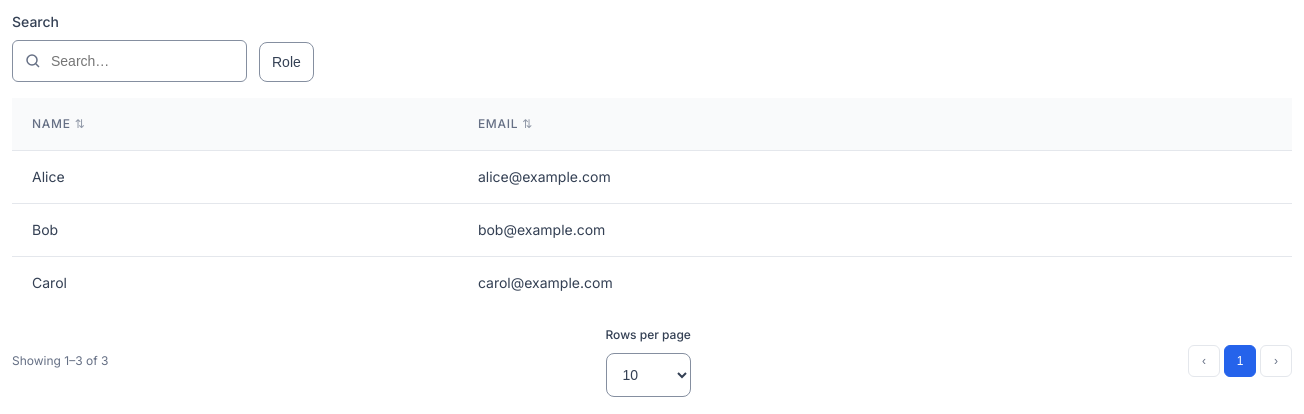
Test case: DataTable — filters › toggling two values of a multi filter accumulates both
The image size is (1304, 414).
Click the button "Role" at x=286, y=62, box [259,42,314,82]
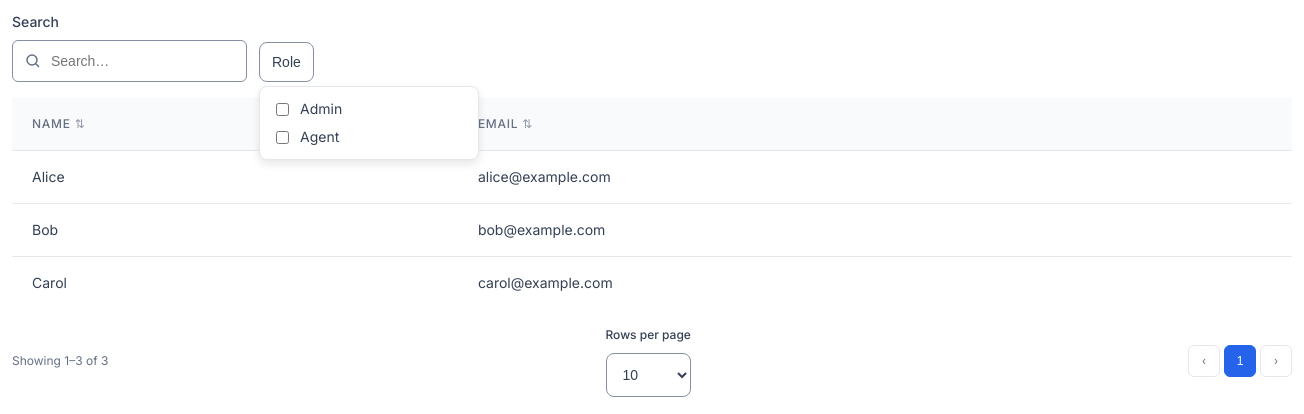
Click the checkbox labelled "Admin" at x=282, y=109, box [276,102,289,116]
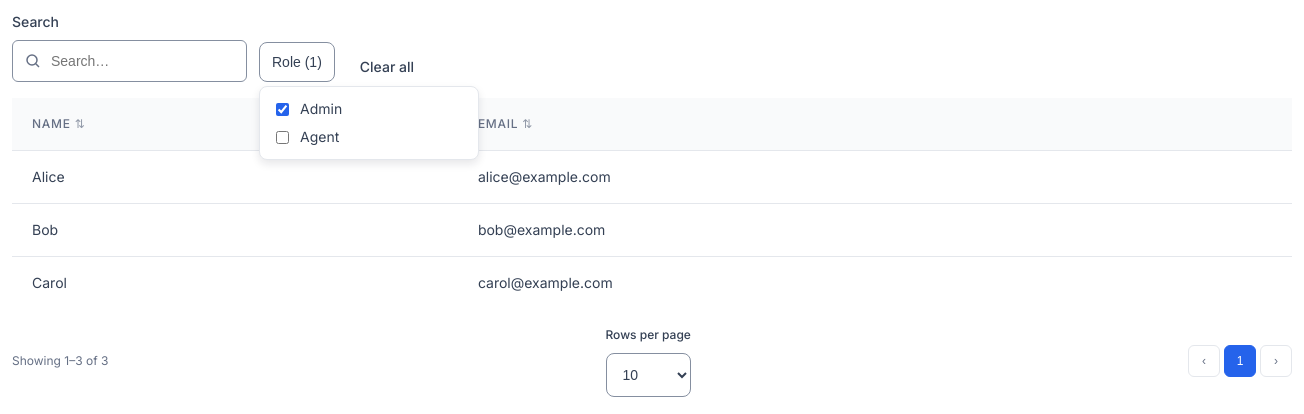
Expected: the button "Role (1)" is shown, [259,42,335,82]
Click the checkbox labelled "Agent" at x=282, y=137, box [276,130,289,144]
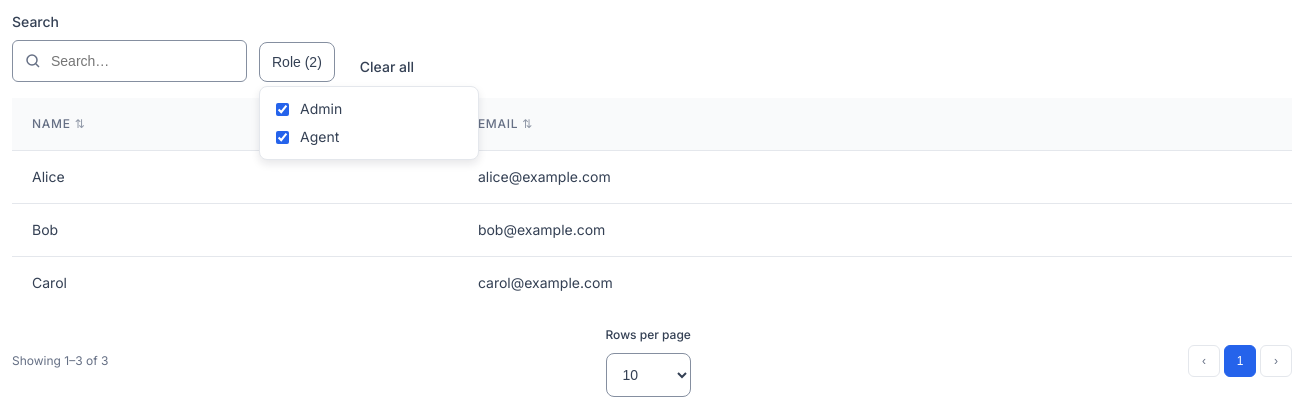
Expected: the button "Role (2)" is shown, [259,42,335,82]
